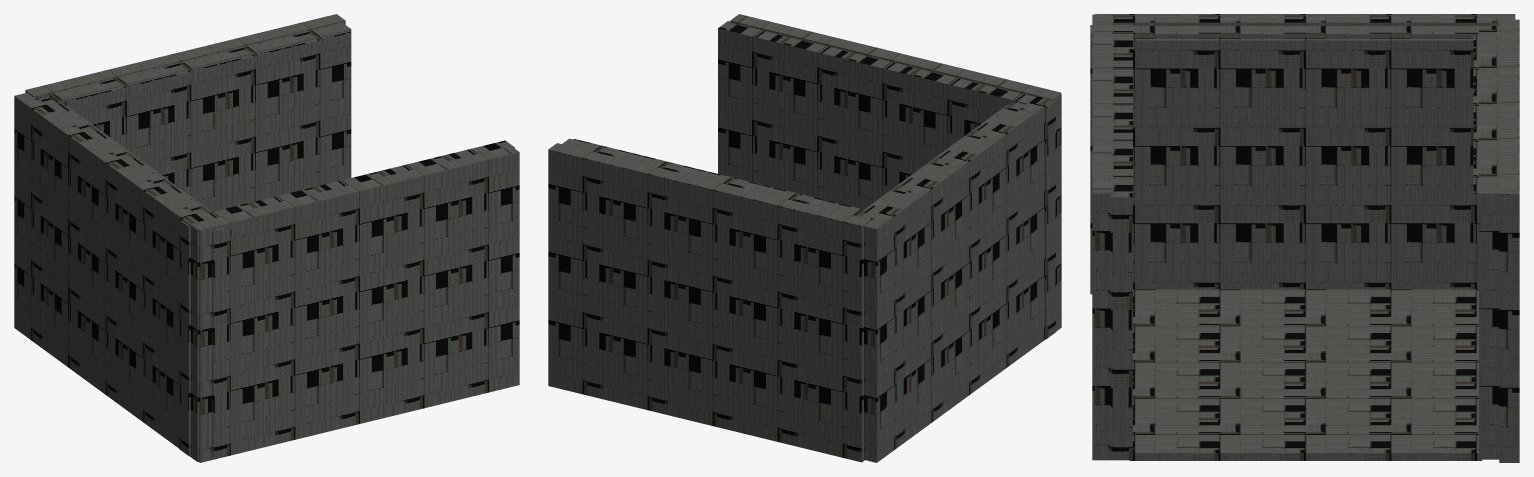
File: dungeon_room_end_floor.glb
3 views of the same model, side by side, from view 1: azimuth 30°, elevation 25°; view 2: azimuth 150°, elevation 25°; view 3: azimuth 270°, elevation 25° (orthographic). The views are drawn at different scales.
Parts seen in each view (by area): view 1: dungeon_room_end_floor; view 2: dungeon_room_end_floor; view 3: dungeon_room_end_floor.
Part boxes in pixels (x1,y1,x2,y2): dungeon_room_end_floor: (14,14,519,462); dungeon_room_end_floor: (548,14,1061,462); dungeon_room_end_floor: (1090,14,1519,462).
Size of the model in its own units: 5.05 by 3.47 by 5.03.
Materials: 1 (1 with a texture image).
